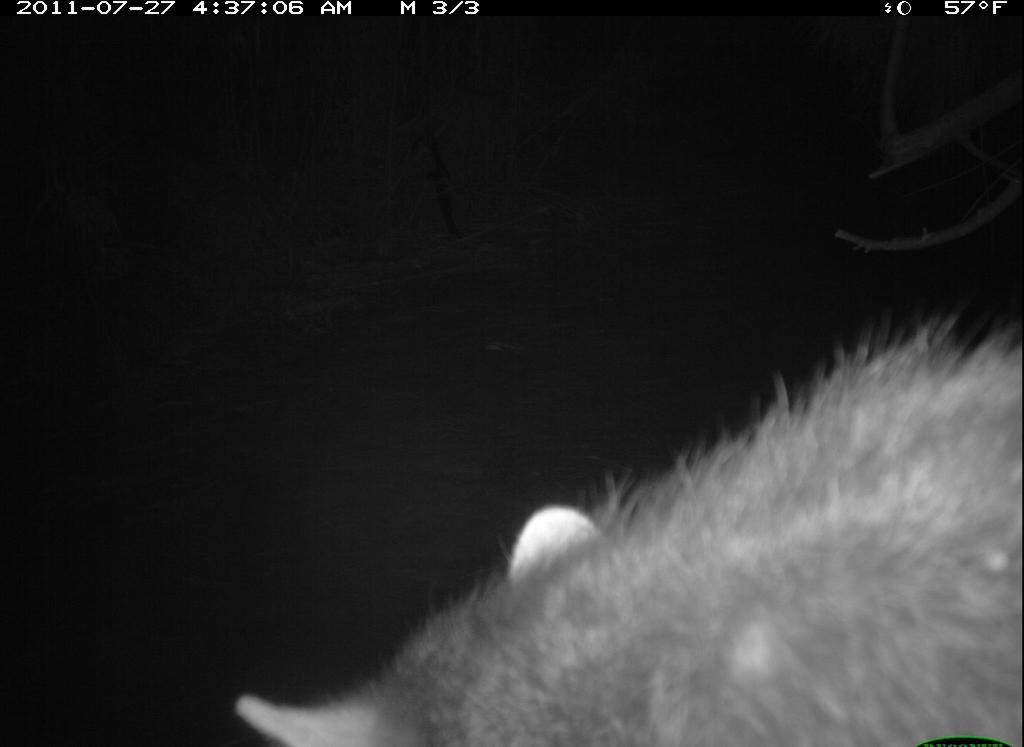raccoon: (225, 304, 1021, 740)
